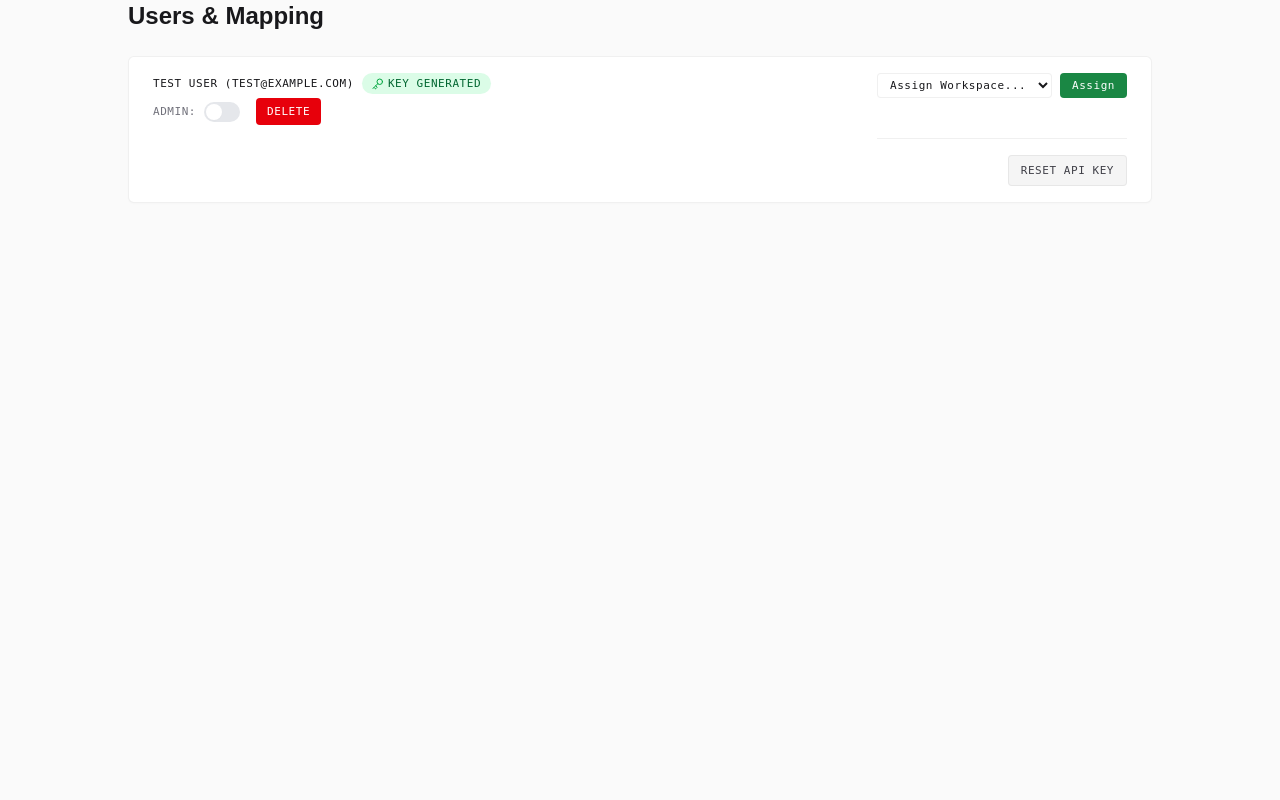
Admin Users Page - API Key Reset UI › should display 'Reset API Key' button and modal warning when user has an existing API key
Expected: the text "Test User (test@example.com)" is shown, [153,75,354,92]
Expected: the text "Key Generated" is shown, [362,73,491,94]
Click the button "Reset API Key": x=1067, y=170 [1008,155,1127,186]
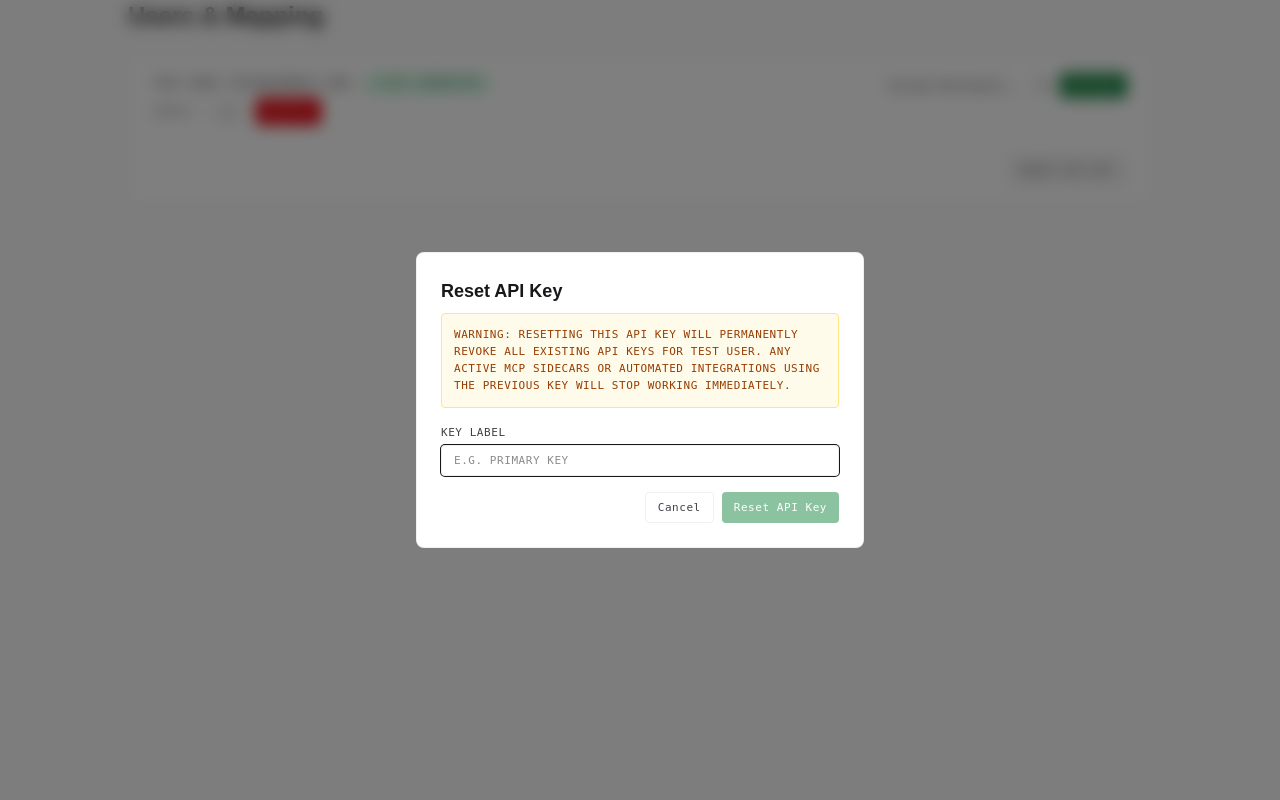
Expected: the heading "Reset API Key" is shown, [441,281,562,301]
Expected: the text "Warning: Resetting this API key will permanently revoke all existing API keys for Test User" is shown, [454,326,826,394]
Expected: the field with placeholder "e.g. Primary Key" is shown, [441,445,839,476]
